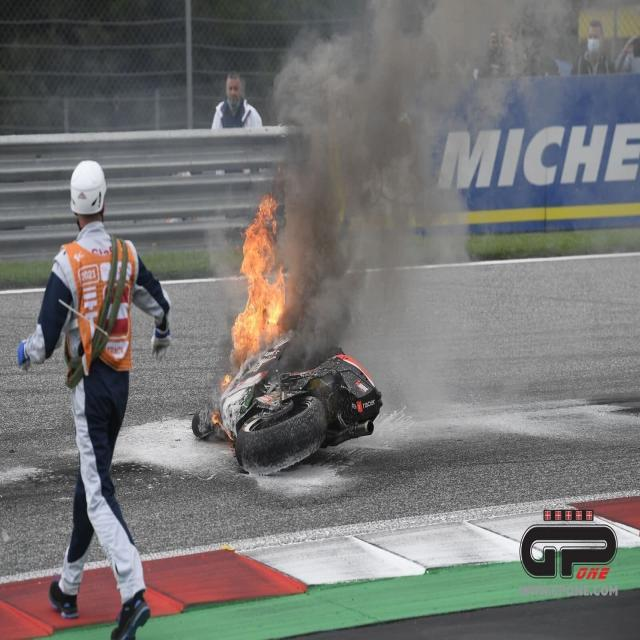Fire: (230, 198, 288, 370)
Smoke: (215, 0, 628, 367)
